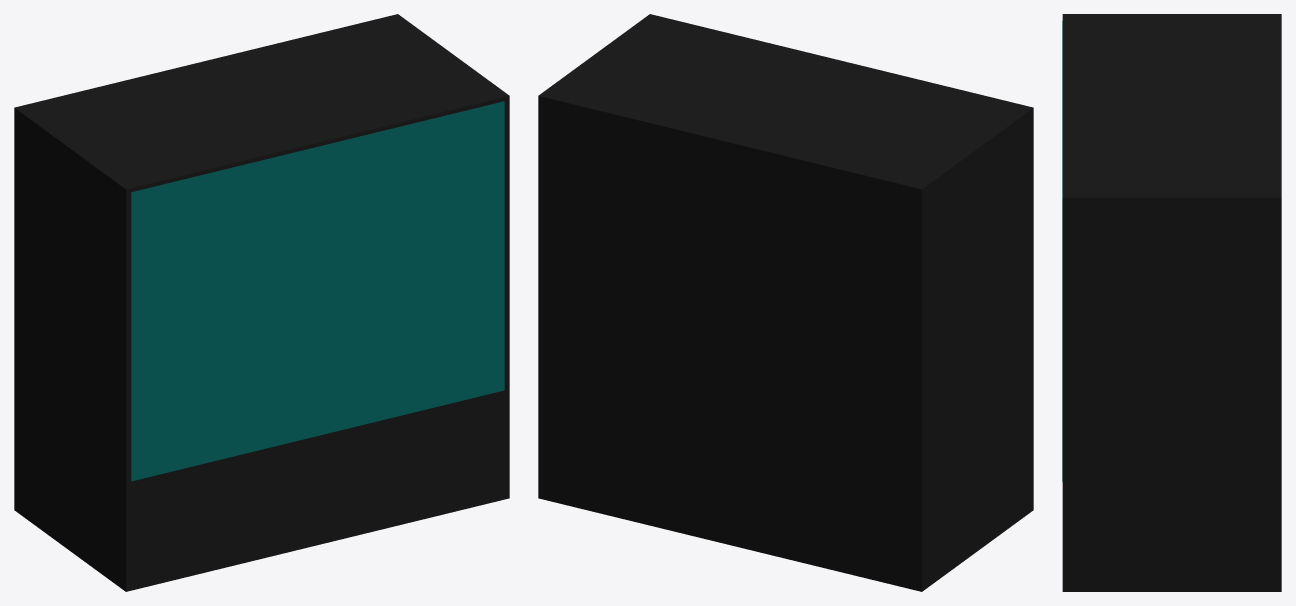
The model's file is Computer_Blockout.fbx.
3 renders of one model, left to right at view 1: azimuth 30°, elevation 25°; view 2: azimuth 150°, elevation 25°; view 3: azimuth 270°, elevation 25°, orthographic. The views are drawn at different scales.
Parts seen in each view (by area): view 1: pCube22, pCube30; view 2: pCube22; view 3: pCube22, pCube30.
Part boxes in pixels (x1,y1,x2,y2): pCube22: [14, 14, 509, 591]; pCube30: [131, 101, 504, 481]; pCube22: [538, 14, 1033, 591]; pCube22: [1062, 14, 1281, 591]; pCube30: [1062, 21, 1062, 481].
Bounding box in the file's own units: 129 × 129 × 65.03.
